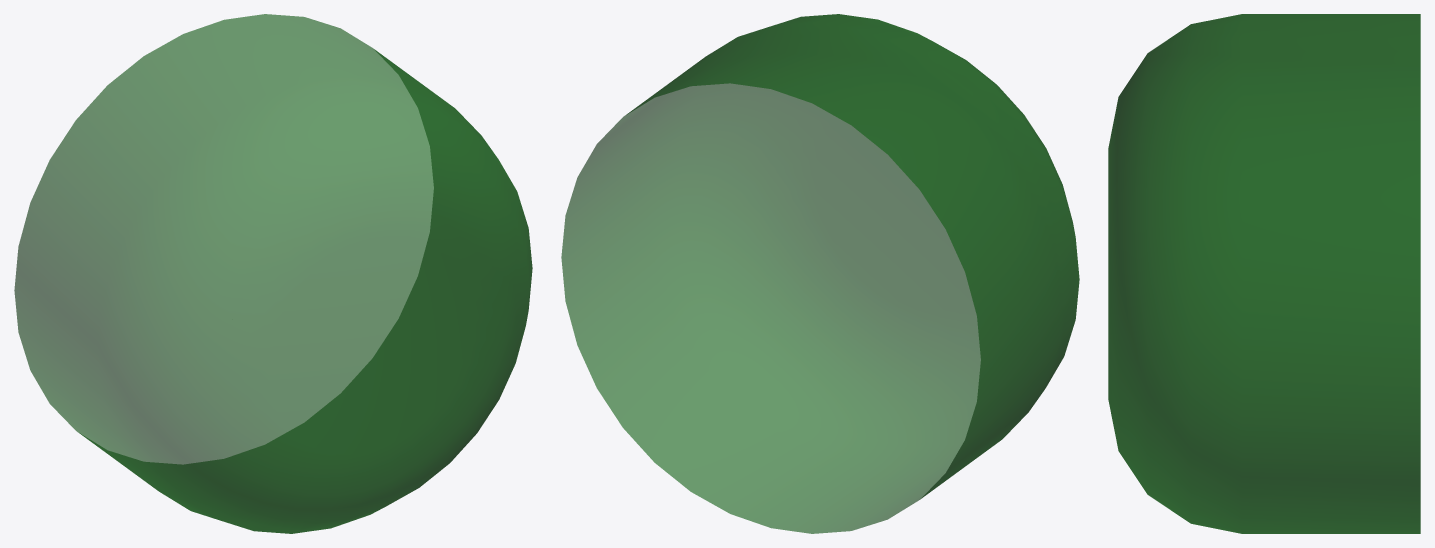
Rendered from ButtonsGlass_MouseGreenTrans_0.obj.
The picture shows the model from 3 angles, left to right: view 1: azimuth 30°, elevation 25°; view 2: azimuth 150°, elevation 25°; view 3: azimuth 270°, elevation 25°; orthographic projection. The views are drawn at different scales.
Parts seen in each view (by area): view 1: ButtonsGlass_MouseGreenTrans_0; view 2: ButtonsGlass_MouseGreenTrans_0; view 3: ButtonsGlass_MouseGreenTrans_0.
Part boxes in pixels (x1,y1,x2,y2): ButtonsGlass_MouseGreenTrans_0: [14, 14, 532, 533]; ButtonsGlass_MouseGreenTrans_0: [561, 14, 1079, 533]; ButtonsGlass_MouseGreenTrans_0: [1108, 14, 1420, 533].
Size of the model in its own units: 0.00794 by 0.00794 by 0.00476.
